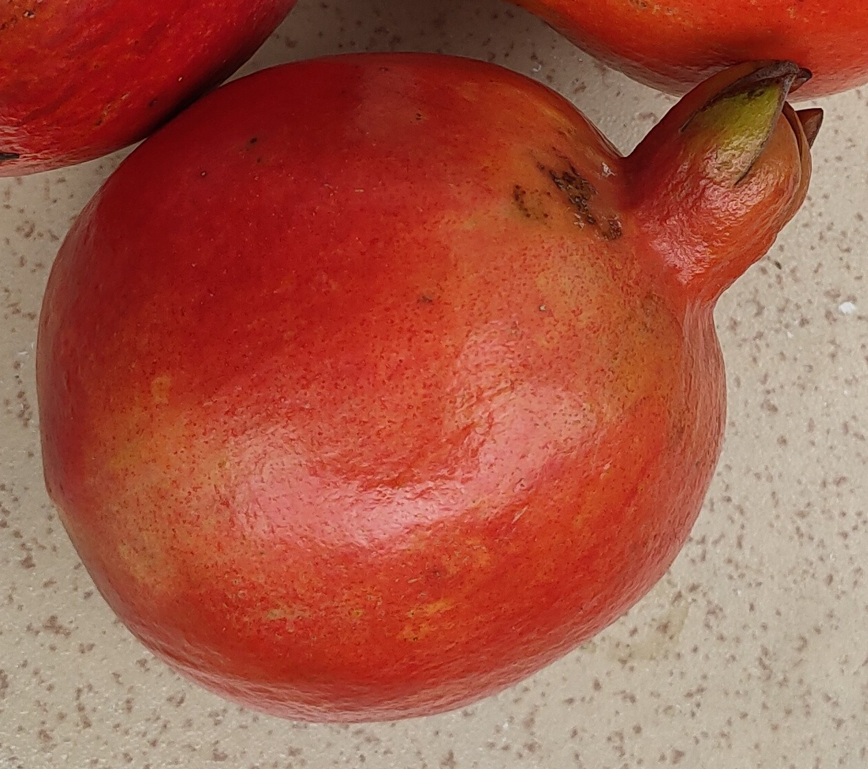pomegranate_A: (36, 50, 826, 725)
